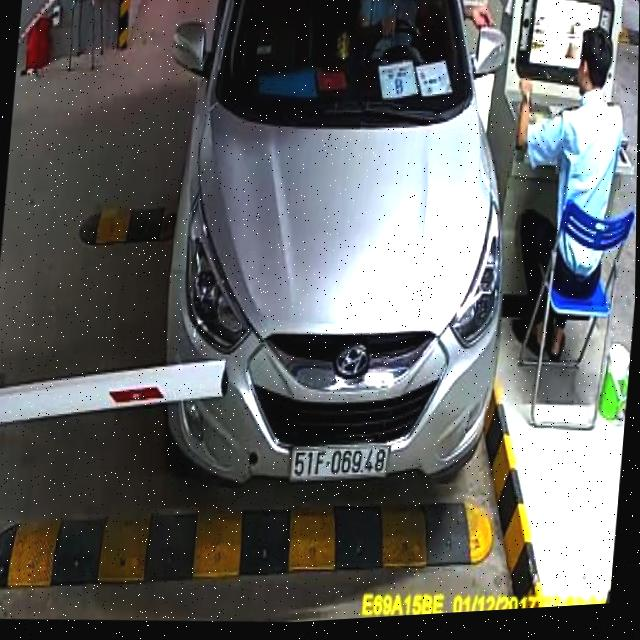car: (123, 0, 544, 521)
plate: (282, 435, 395, 489)
